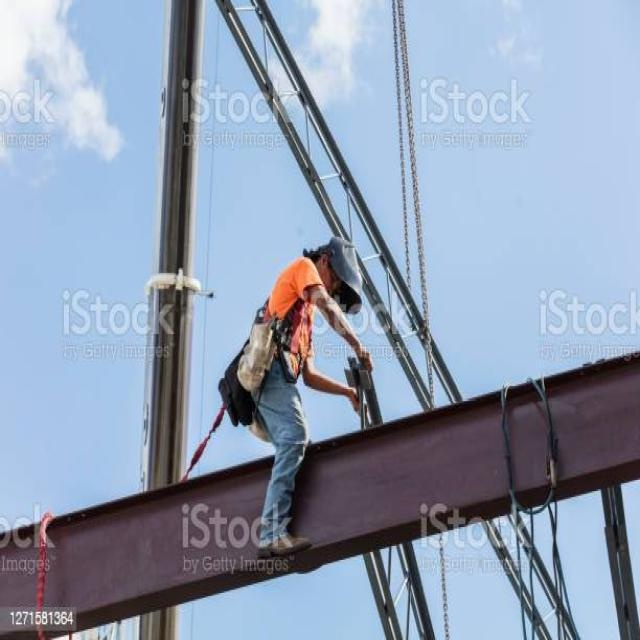Arnes_seguridad: (251, 257, 314, 382)
